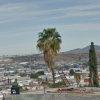Tree: (33, 22, 66, 74)
